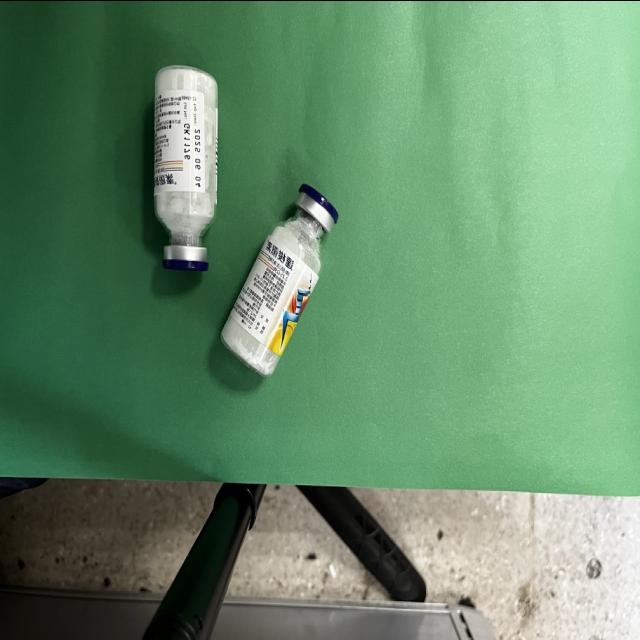Vials: (222, 185, 337, 375), (154, 65, 218, 271)
